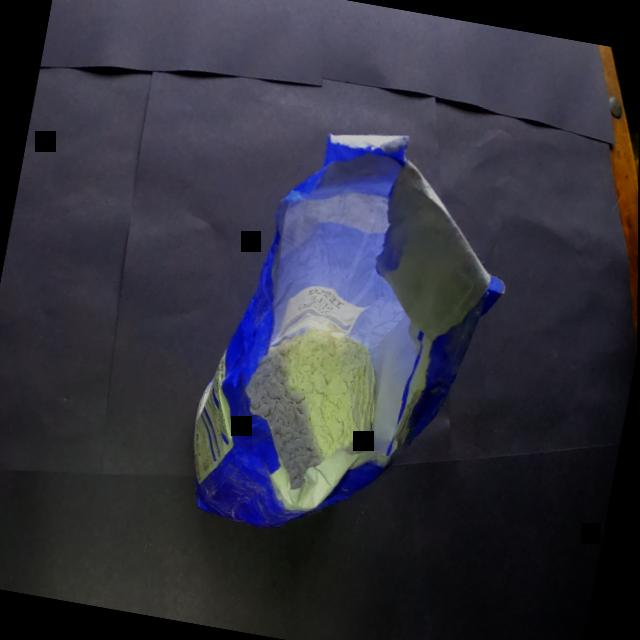Flour: (150, 90, 545, 588)
